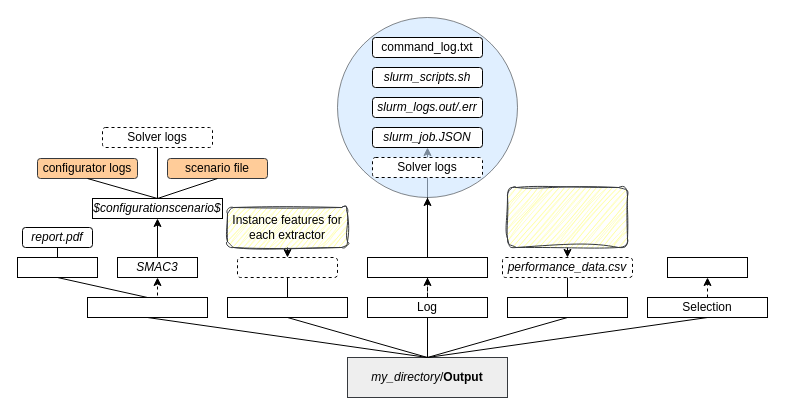
Some shapes in this 785 by 415 pixel diagram are drawn without their labels. The shapes that lost their labels are listed below. From the top down, each one's centre as x and y in pixels, then its label:
At point (567, 217): "Configurations, objective values, instances, solvers, runs ...".
At point (57, 267): "Analysis".
At point (287, 267): "feature_data.csv".
At point (427, 267): "$commandname$".
At point (707, 267): "autofolio".
At point (147, 307): "Configuration".
At point (287, 307): "Feature_Data".
At point (567, 307): "Performance_Data".
